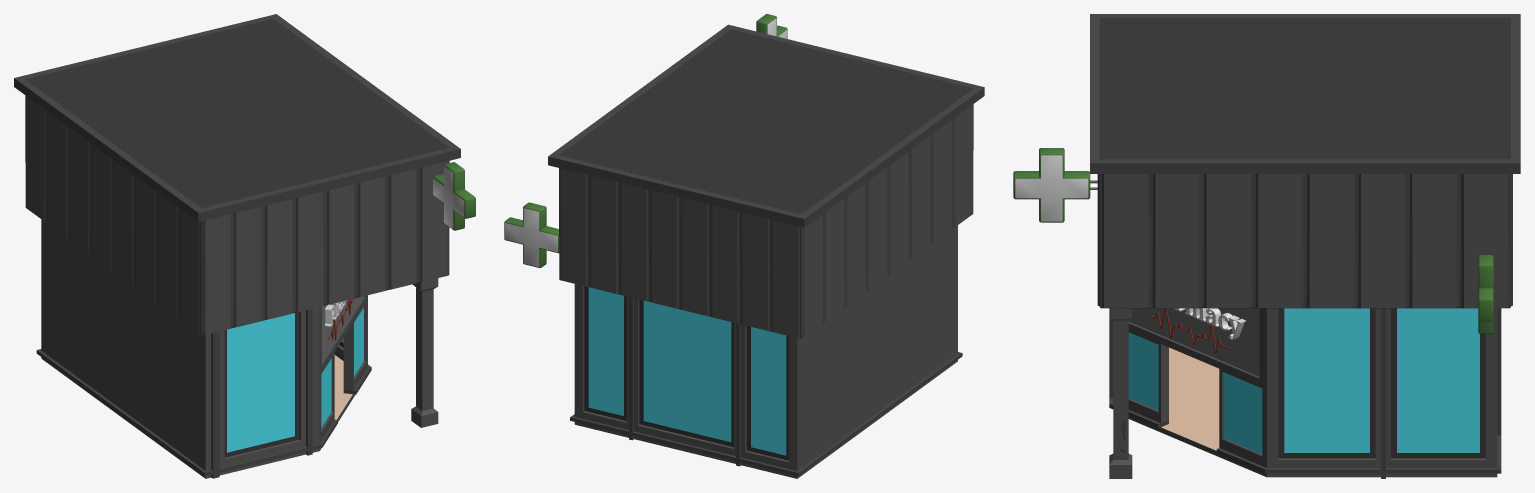
Rendered from SM_Buildings_Commercial_15.fbx.
3 views of the same model, side by side, from view 1: azimuth 30°, elevation 25°; view 2: azimuth 150°, elevation 25°; view 3: azimuth 270°, elevation 25° (orthographic). The views are drawn at different scales.
Visible parts, largest first — view 1: SM_Buildings_Commercial_15; view 2: SM_Buildings_Commercial_15; view 3: SM_Buildings_Commercial_15.
Boxes of the visible parts, left/top/right/bottom form: SM_Buildings_Commercial_15: left=14, top=14, right=475, bottom=478; SM_Buildings_Commercial_15: left=504, top=14, right=984, bottom=478; SM_Buildings_Commercial_15: left=1013, top=14, right=1520, bottom=478.
Size of the model in its own units: 11.2 by 9.3 by 13.2.
